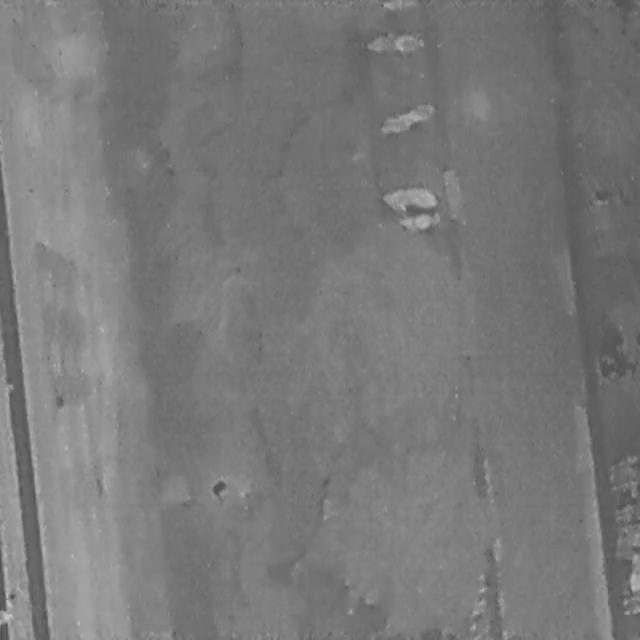Bicycle: (376, 99, 436, 132), (365, 30, 425, 54), (377, 186, 439, 209), (390, 210, 440, 235)
